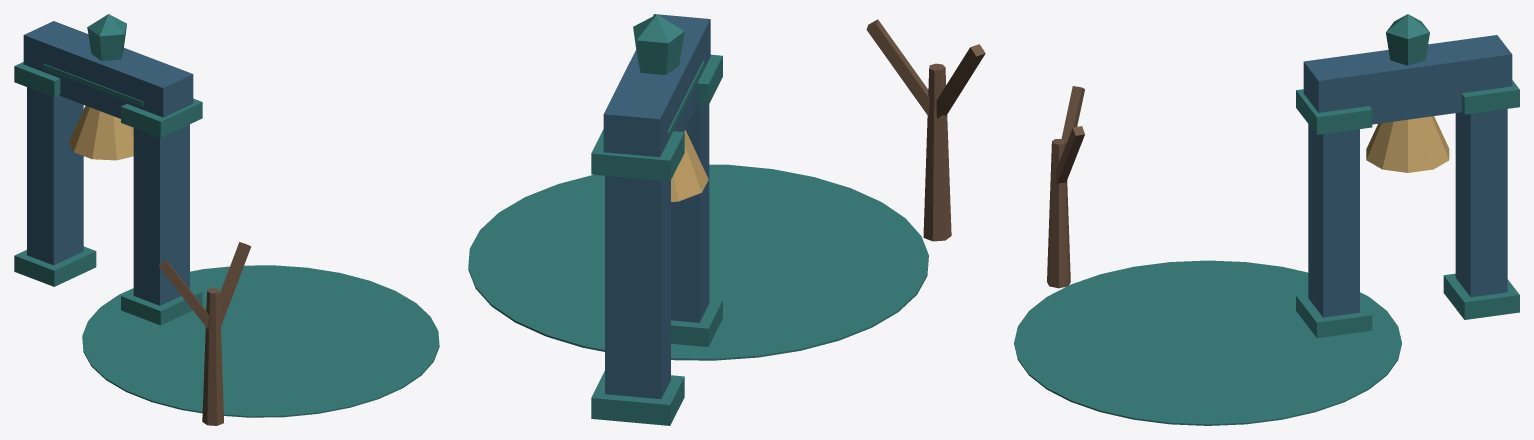
File: Pocket_SunkenMarsh.glb
3 renders of one model, left to right at view 1: azimuth 30°, elevation 25°; view 2: azimuth 150°, elevation 25°; view 3: azimuth 270°, elevation 25°, orthographic. The views are drawn at different scales.
Parts seen in each view (by area): view 1: Pocket_SunkenMarsh_Sanctuary teal_4_0, Pocket_SunkenMarsh_FrostboundGlacier_dark_4_0, Pocket_SunkenMarsh_Warm timber_4_0, Pocket_SunkenMarsh_Aged gold_4_0; view 2: Pocket_SunkenMarsh_Sanctuary teal_4_0, Pocket_SunkenMarsh_FrostboundGlacier_dark_4_0, Pocket_SunkenMarsh_Warm timber_4_0, Pocket_SunkenMarsh_Aged gold_4_0; view 3: Pocket_SunkenMarsh_Sanctuary teal_4_0, Pocket_SunkenMarsh_FrostboundGlacier_dark_4_0, Pocket_SunkenMarsh_Warm timber_4_0, Pocket_SunkenMarsh_Aged gold_4_0.
Part boxes in pixels (x1,y1,x2,y2): Pocket_SunkenMarsh_Sanctuary teal_4_0: (14,14,439,417); Pocket_SunkenMarsh_FrostboundGlacier_dark_4_0: (23,21,193,305); Pocket_SunkenMarsh_Warm timber_4_0: (159,242,251,425); Pocket_SunkenMarsh_Aged gold_4_0: (68,105,133,160); Pocket_SunkenMarsh_Sanctuary teal_4_0: (468,14,928,425); Pocket_SunkenMarsh_FrostboundGlacier_dark_4_0: (603,14,710,399); Pocket_SunkenMarsh_Warm timber_4_0: (866,19,985,241); Pocket_SunkenMarsh_Aged gold_4_0: (671,130,708,201); Pocket_SunkenMarsh_Sanctuary teal_4_0: (1014,14,1519,425); Pocket_SunkenMarsh_FrostboundGlacier_dark_4_0: (1303,35,1512,317); Pocket_SunkenMarsh_Warm timber_4_0: (1047,86,1084,288); Pocket_SunkenMarsh_Aged gold_4_0: (1366,116,1449,172).
Bounding box in the file's own units: 40.86 × 34 × 52.16.
